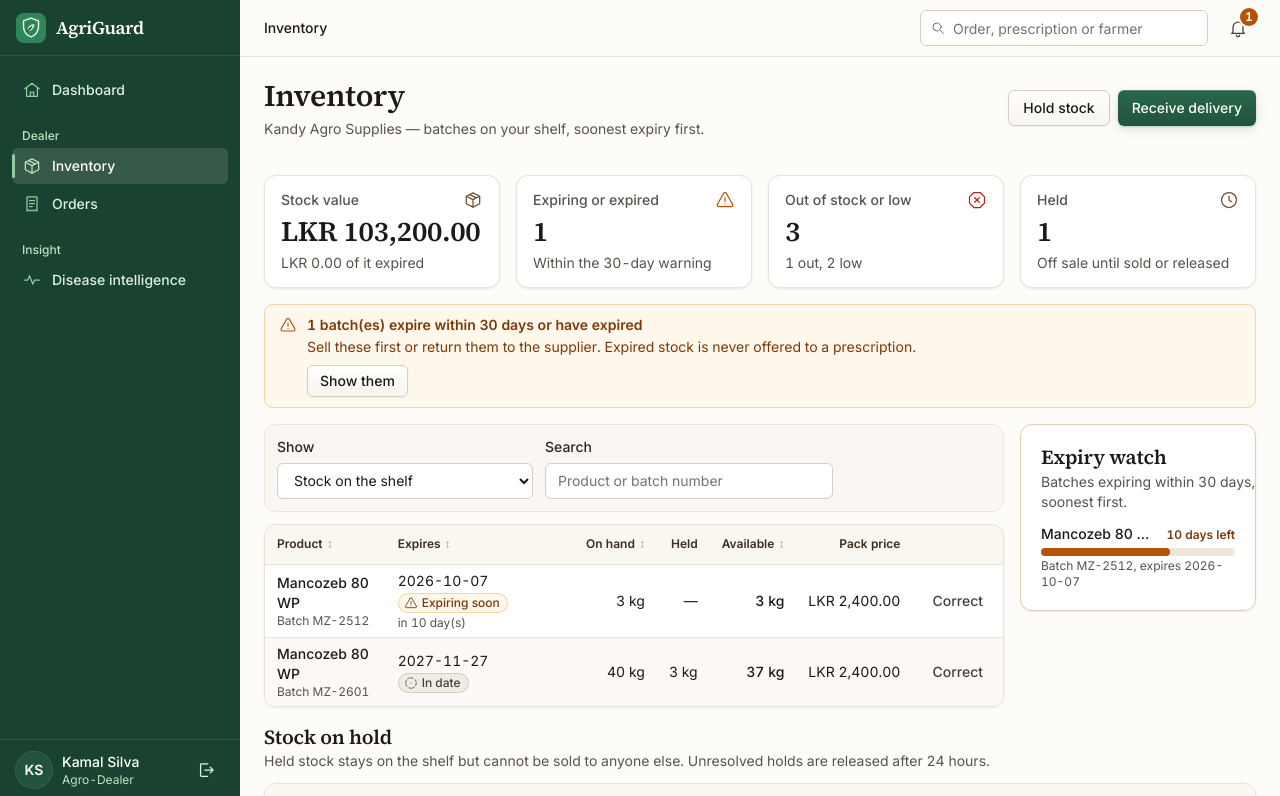
Test: InventoryPage › explains why a recount cannot go below what is held
This screenshot has width=1280, height=796.
Step 1. Click the button with aria-label "Correct batch MZ-2601" → (958, 672), box [924,656,991,688]
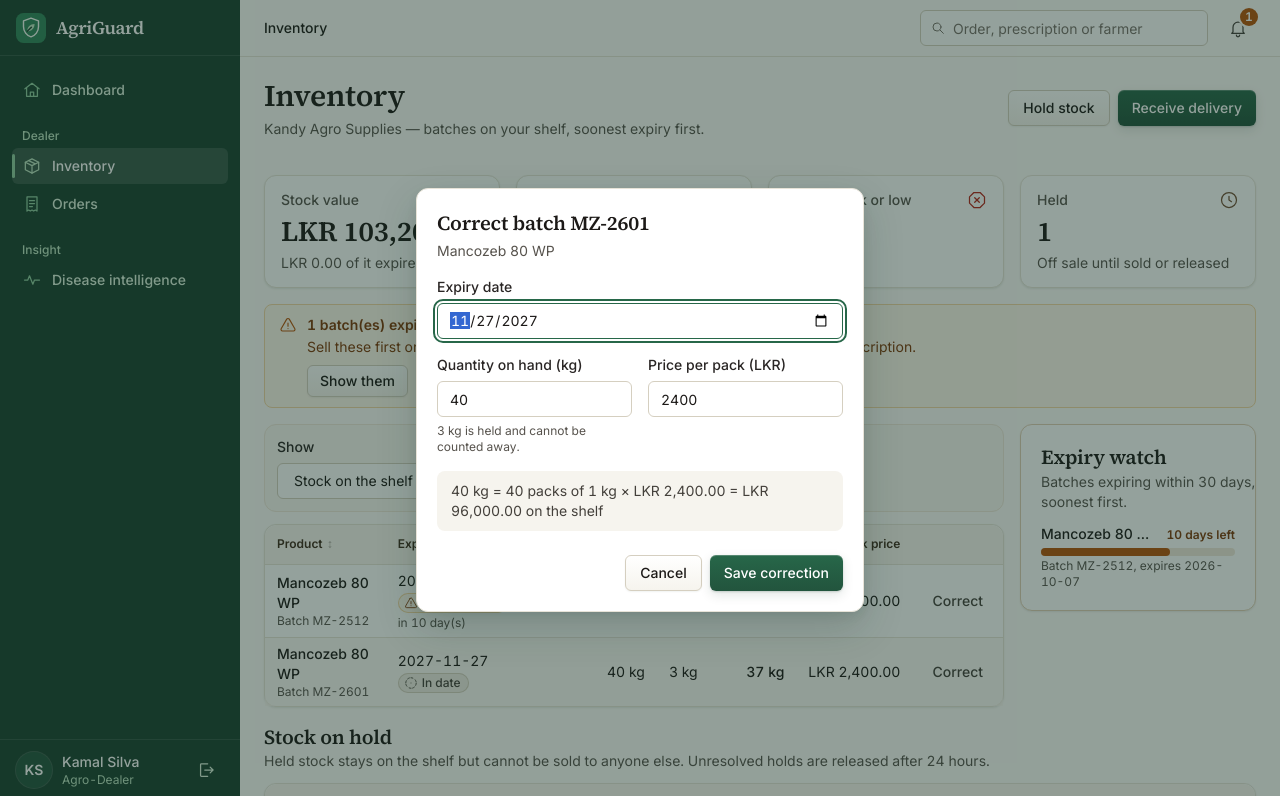
Result: the text "3 kg is held and cannot be counted away." is shown at [437,423,586,454]
Step 2. Clear the number field labelled "Quantity on hand (kg)" → (534, 399), box [437,381,632,417]
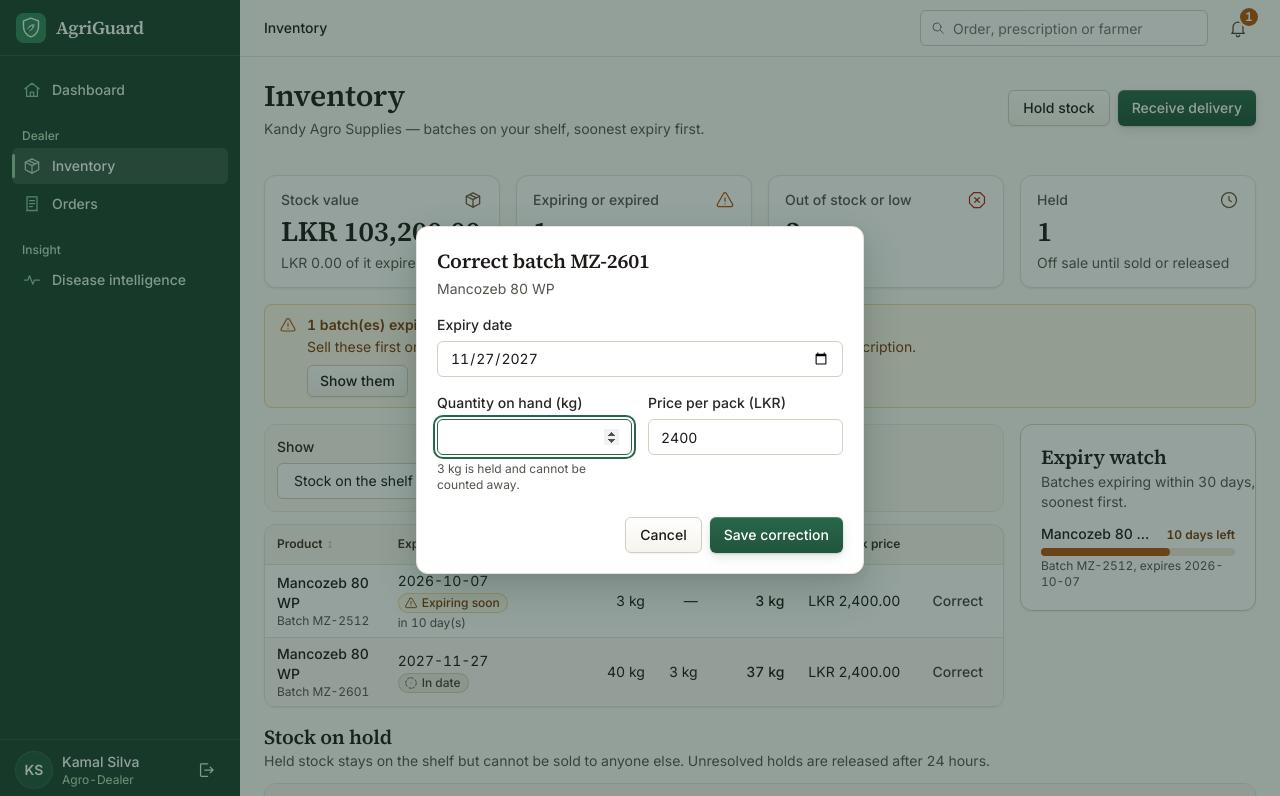
Step 3. Type "1" into the number field labelled "Quantity on hand (kg)" → (534, 437), box [437,419,632,455]
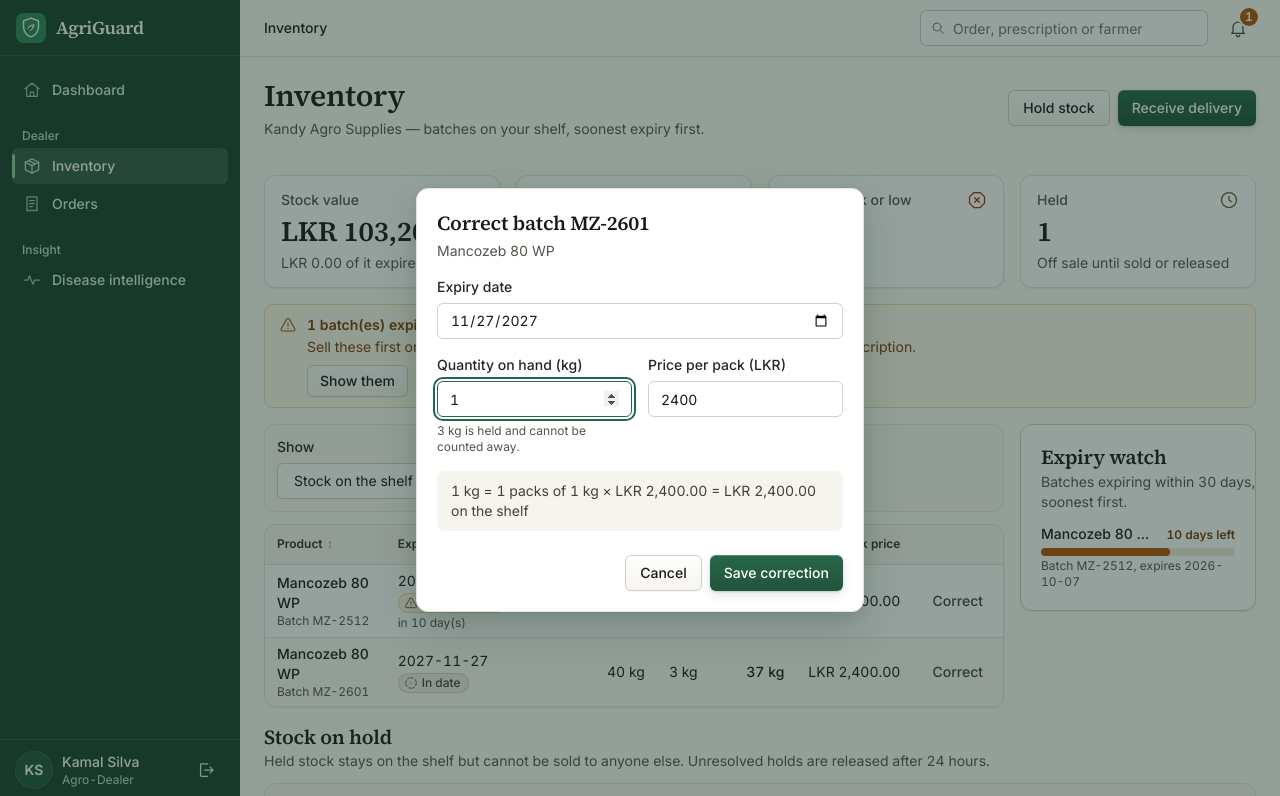
Step 4. Click the button "Save correction" → (776, 573), box [710,555,843,591]
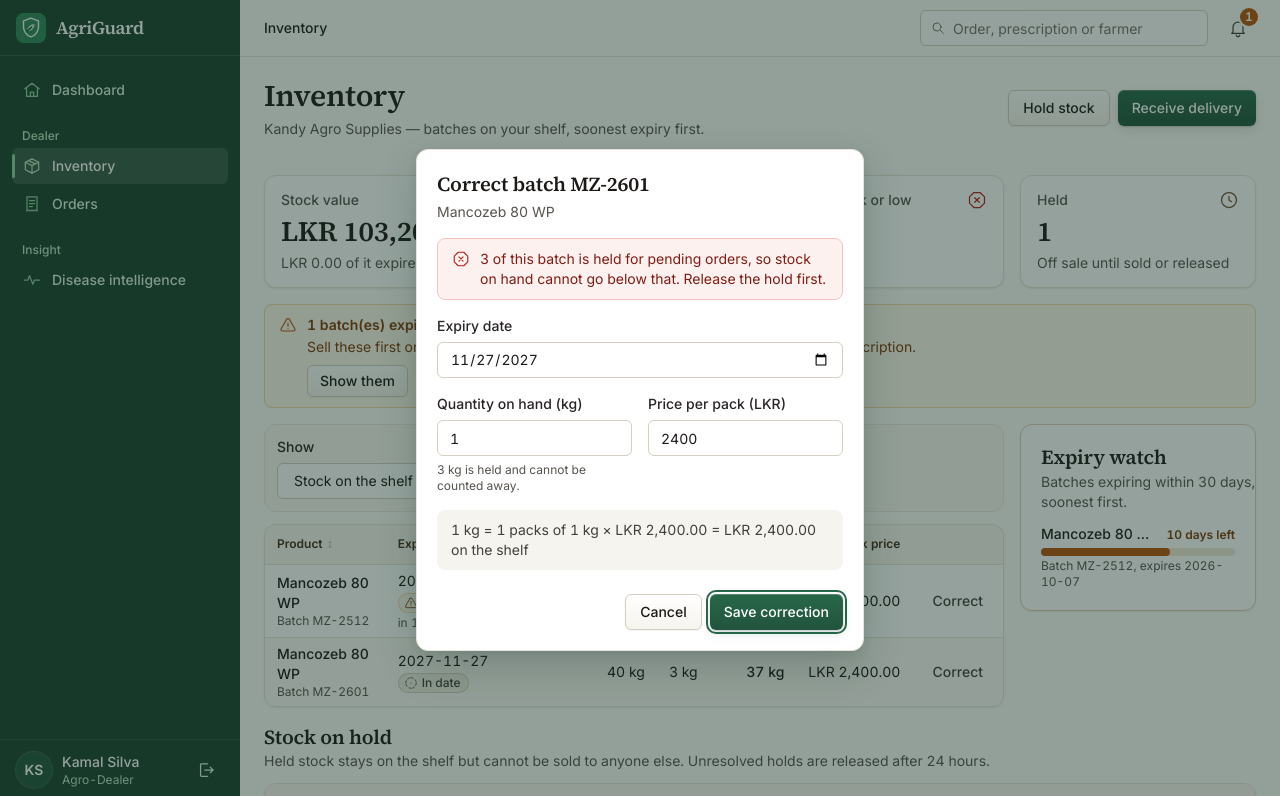
Result: the text "Release the hold first" is shown at [480,250,826,287]
